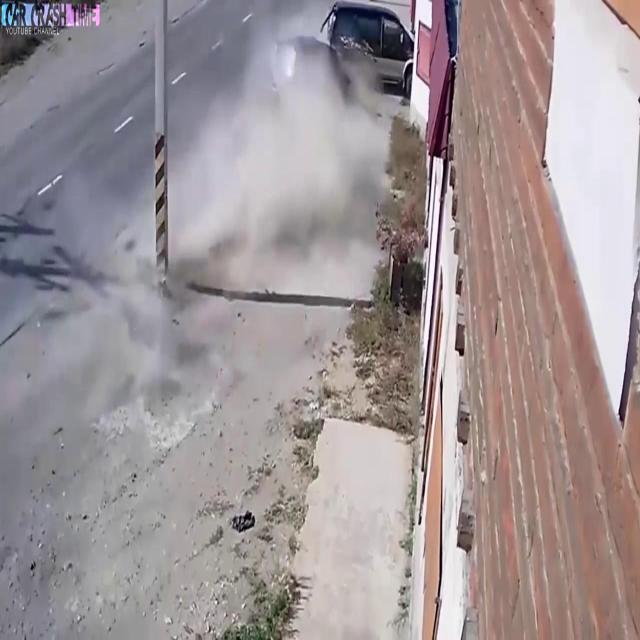accident: (242, 5, 426, 183)
